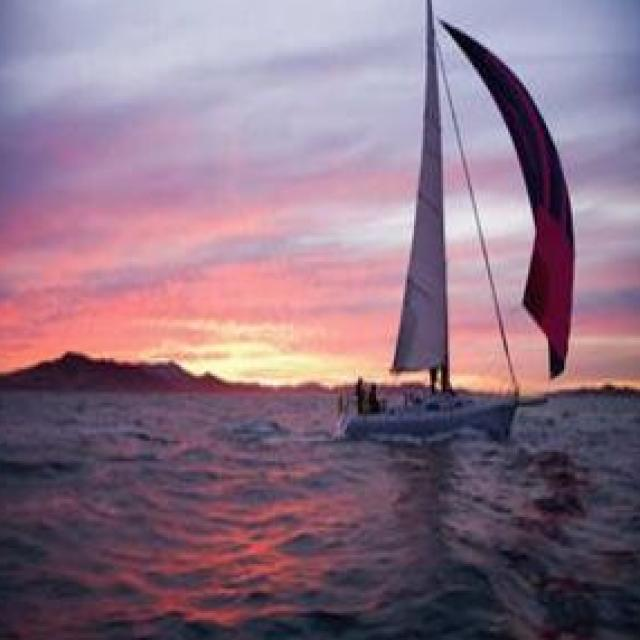sailboat: (331, 0, 575, 439)
